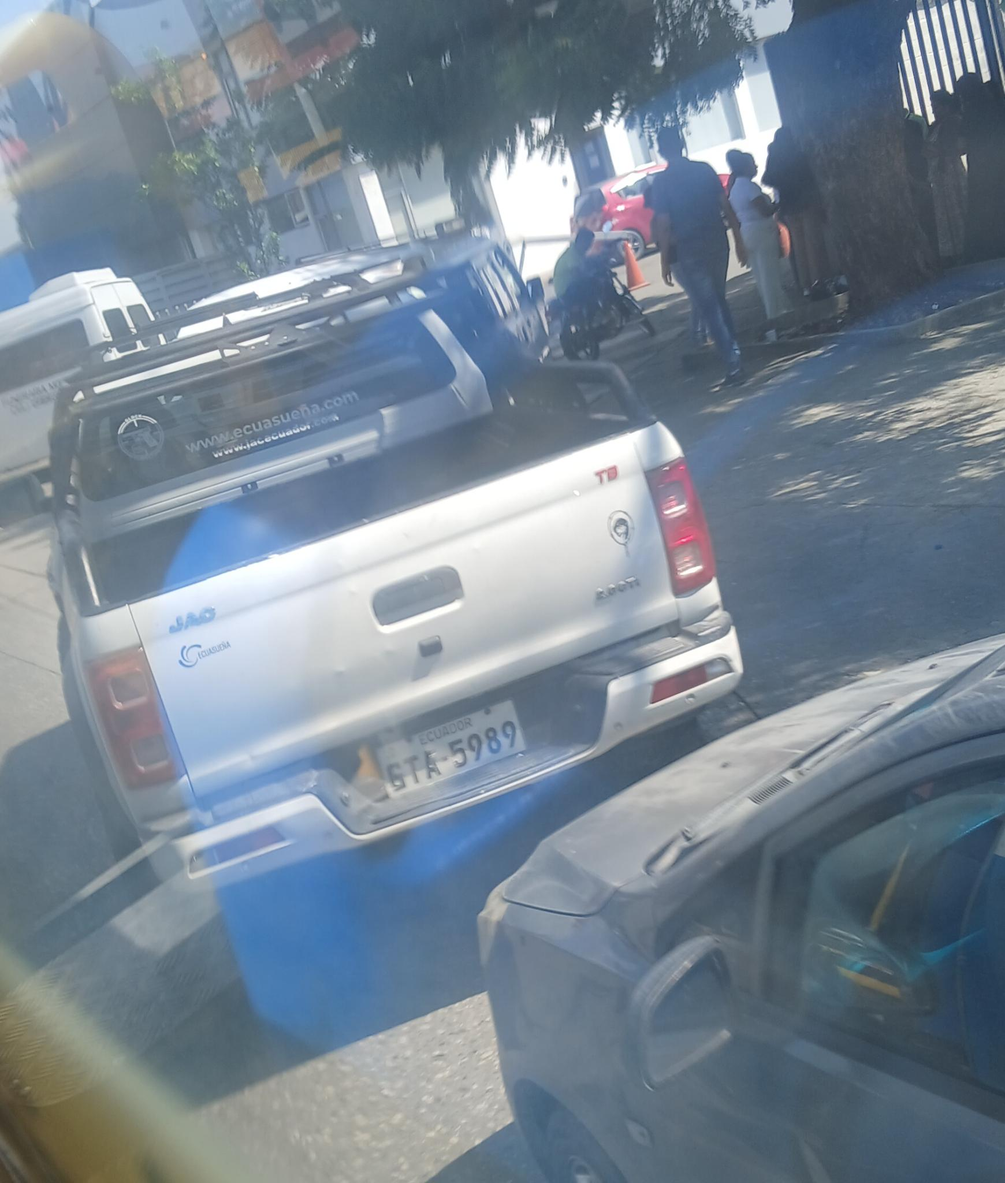license_plate: (364, 698, 527, 800)
